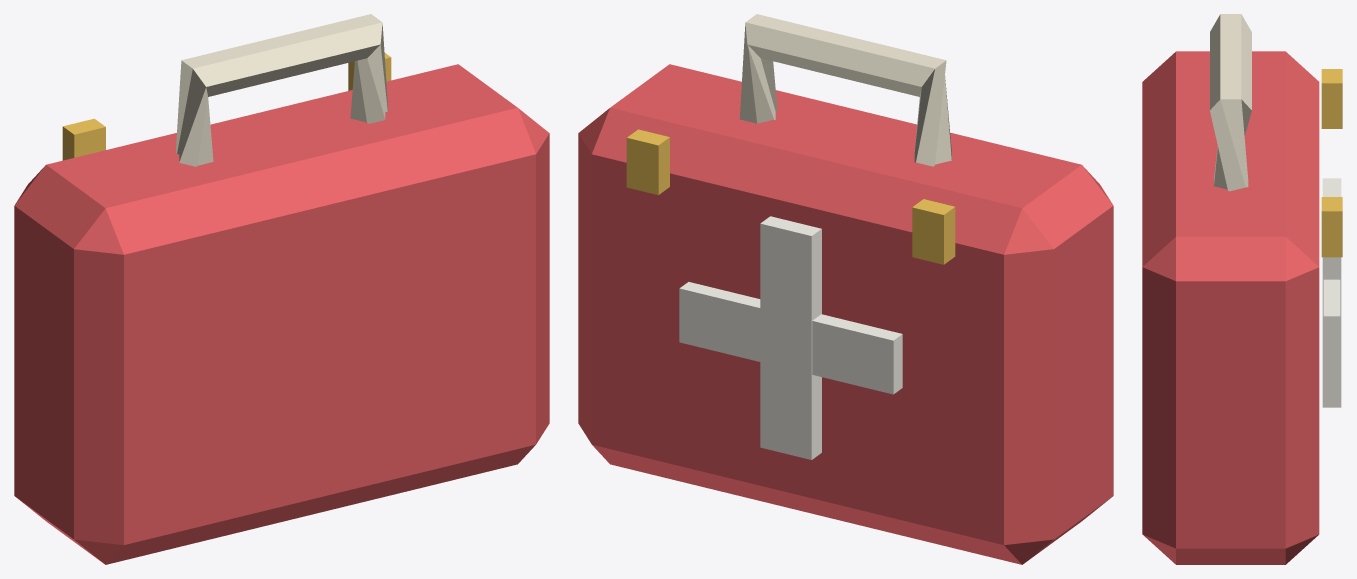
File: med_bowl.glb
The picture shows the model from 3 angles, left to right: view 1: azimuth 30°, elevation 25°; view 2: azimuth 150°, elevation 25°; view 3: azimuth 270°, elevation 25°; orthographic projection. The views are drawn at different scales.
Visible parts, largest first — view 1: med_bowl; view 2: med_bowl; view 3: med_bowl.
Part boxes in pixels (box(x1,y1,x2,y2)): med_bowl: box(14, 14, 549, 564); med_bowl: box(578, 14, 1113, 564); med_bowl: box(1142, 14, 1342, 564).
Size of the model in its own units: 0.6172 by 0.56 by 0.2443.
